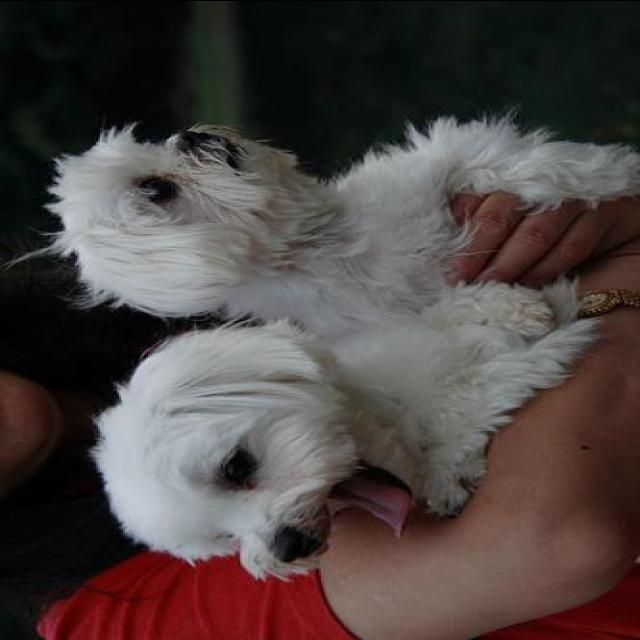maltese_dog: (82, 278, 604, 582), (54, 118, 636, 338)
